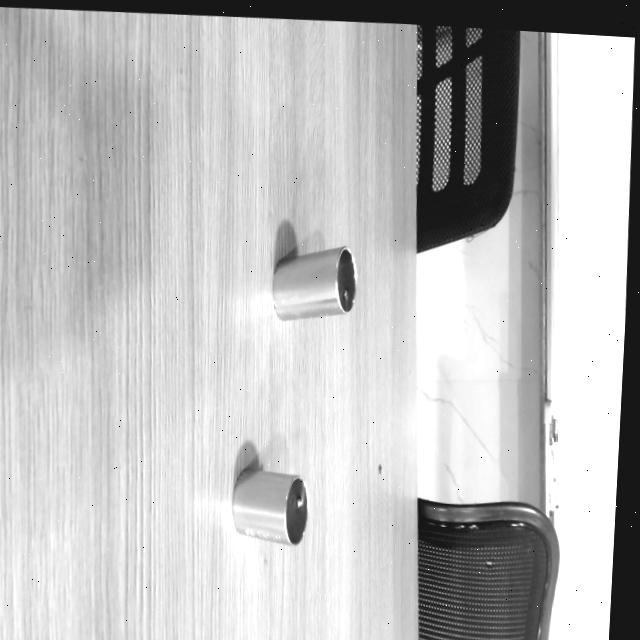Co_Lon: (268, 244, 360, 321)
Co_Nho: (227, 465, 313, 546)
